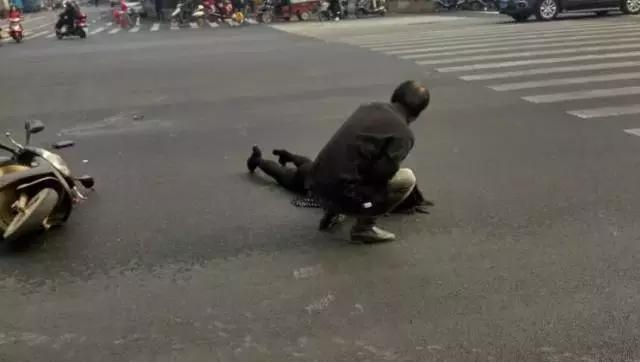falling: (234, 133, 428, 223)
